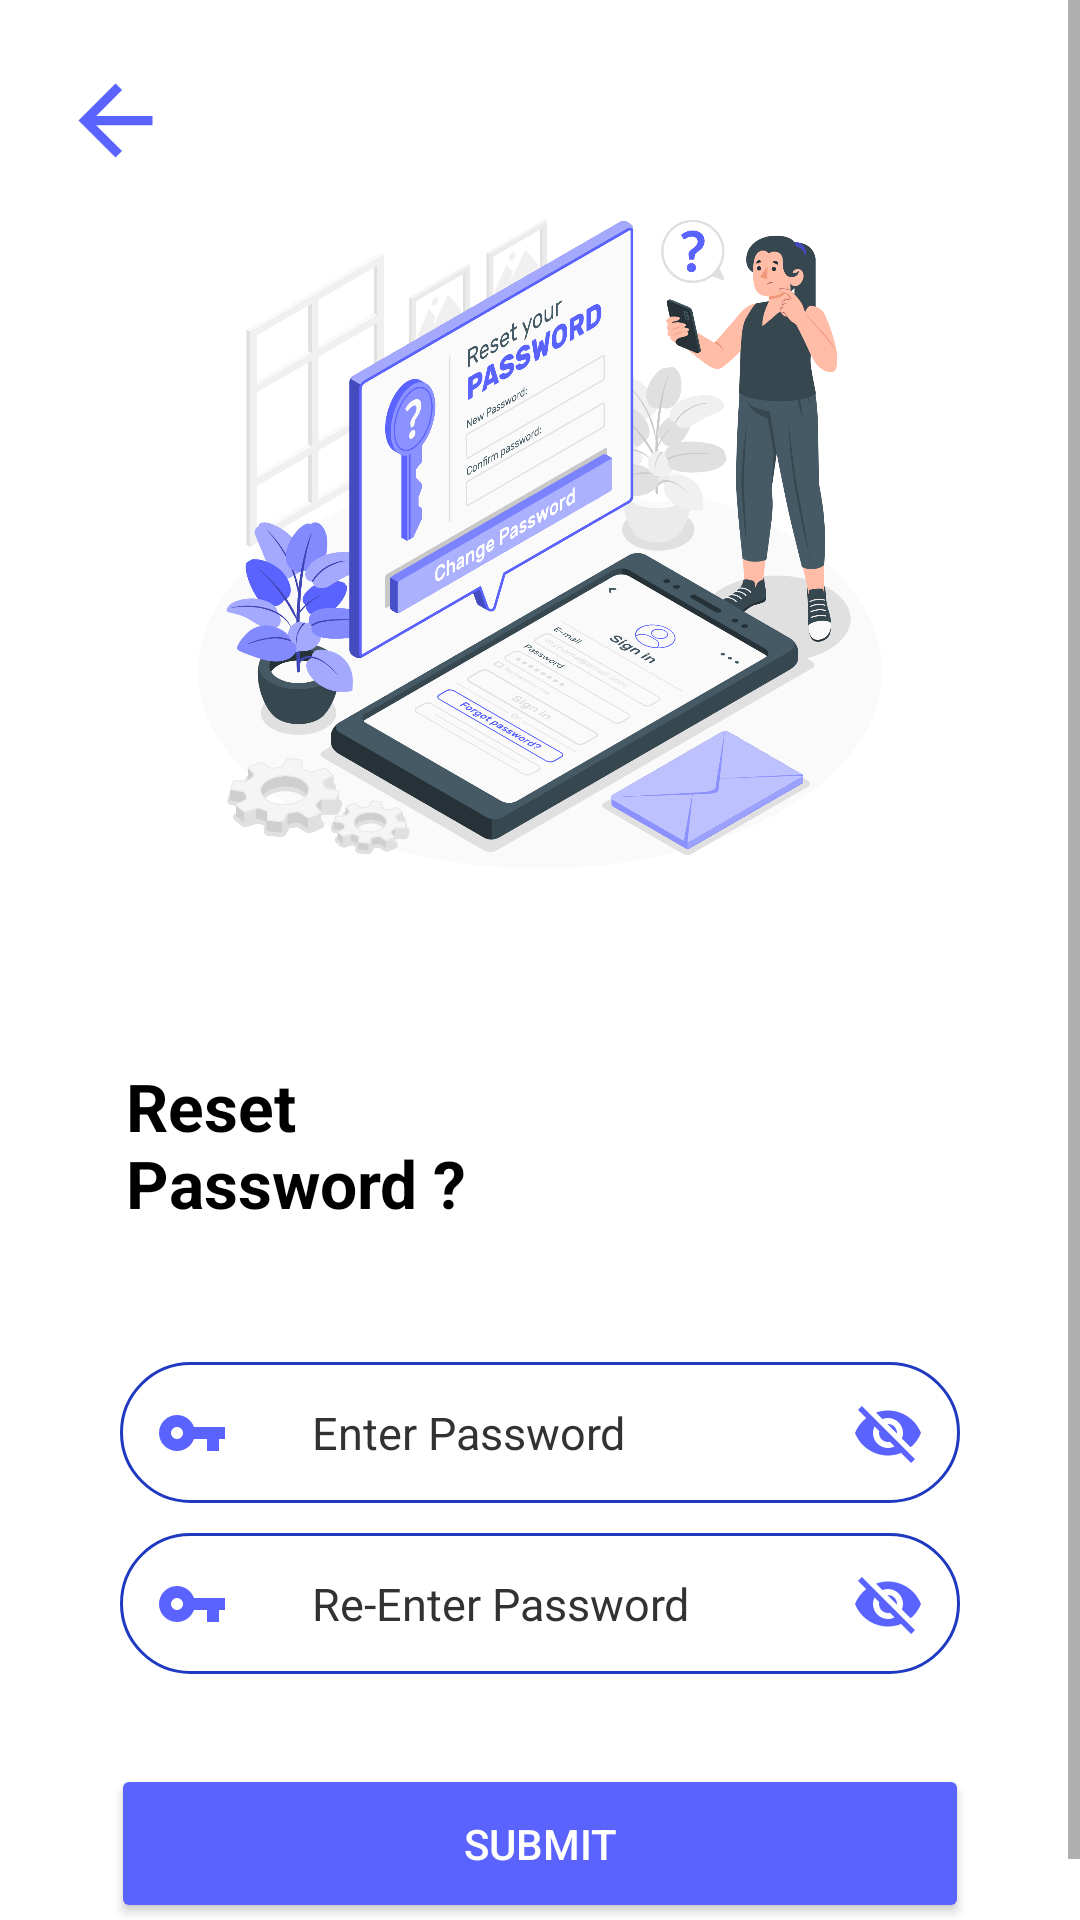

Icons on this 1080×1920 Android screen, each with its box as detection(x1, y1, x2, y2):
back: detection(78, 83, 153, 158)
